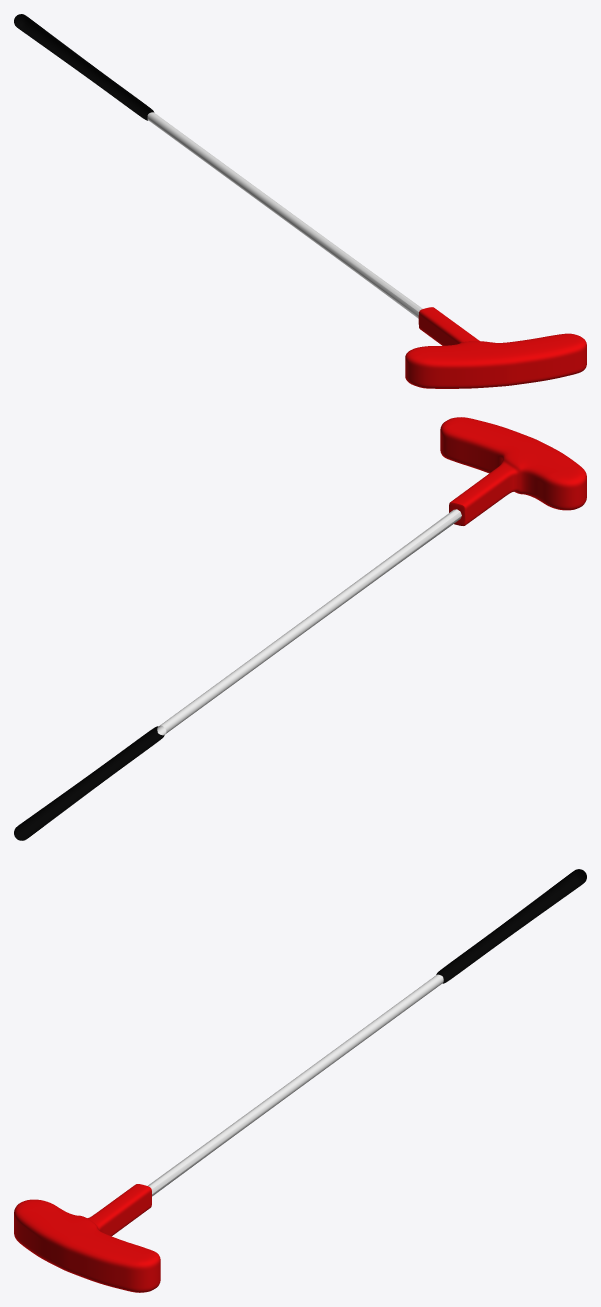
Rendered from Golfschlager.fbx.
3 renders of one model, top to bottom at view 1: azimuth 30°, elevation 25°; view 2: azimuth 150°, elevation 25°; view 3: azimuth 330°, elevation 25°, orthographic. The views are drawn at different scales.
Visible parts, largest first — view 1: Schläger; view 2: Schläger; view 3: Schläger.
Boxes of the visible parts, left/top/right/bottom form: Schläger: left=14, top=14, right=586, bottom=388; Schläger: left=14, top=417, right=586, bottom=840; Schläger: left=14, top=869, right=586, bottom=1292.
Size of the model in its own units: 60.42 by 10.88 by 2.
